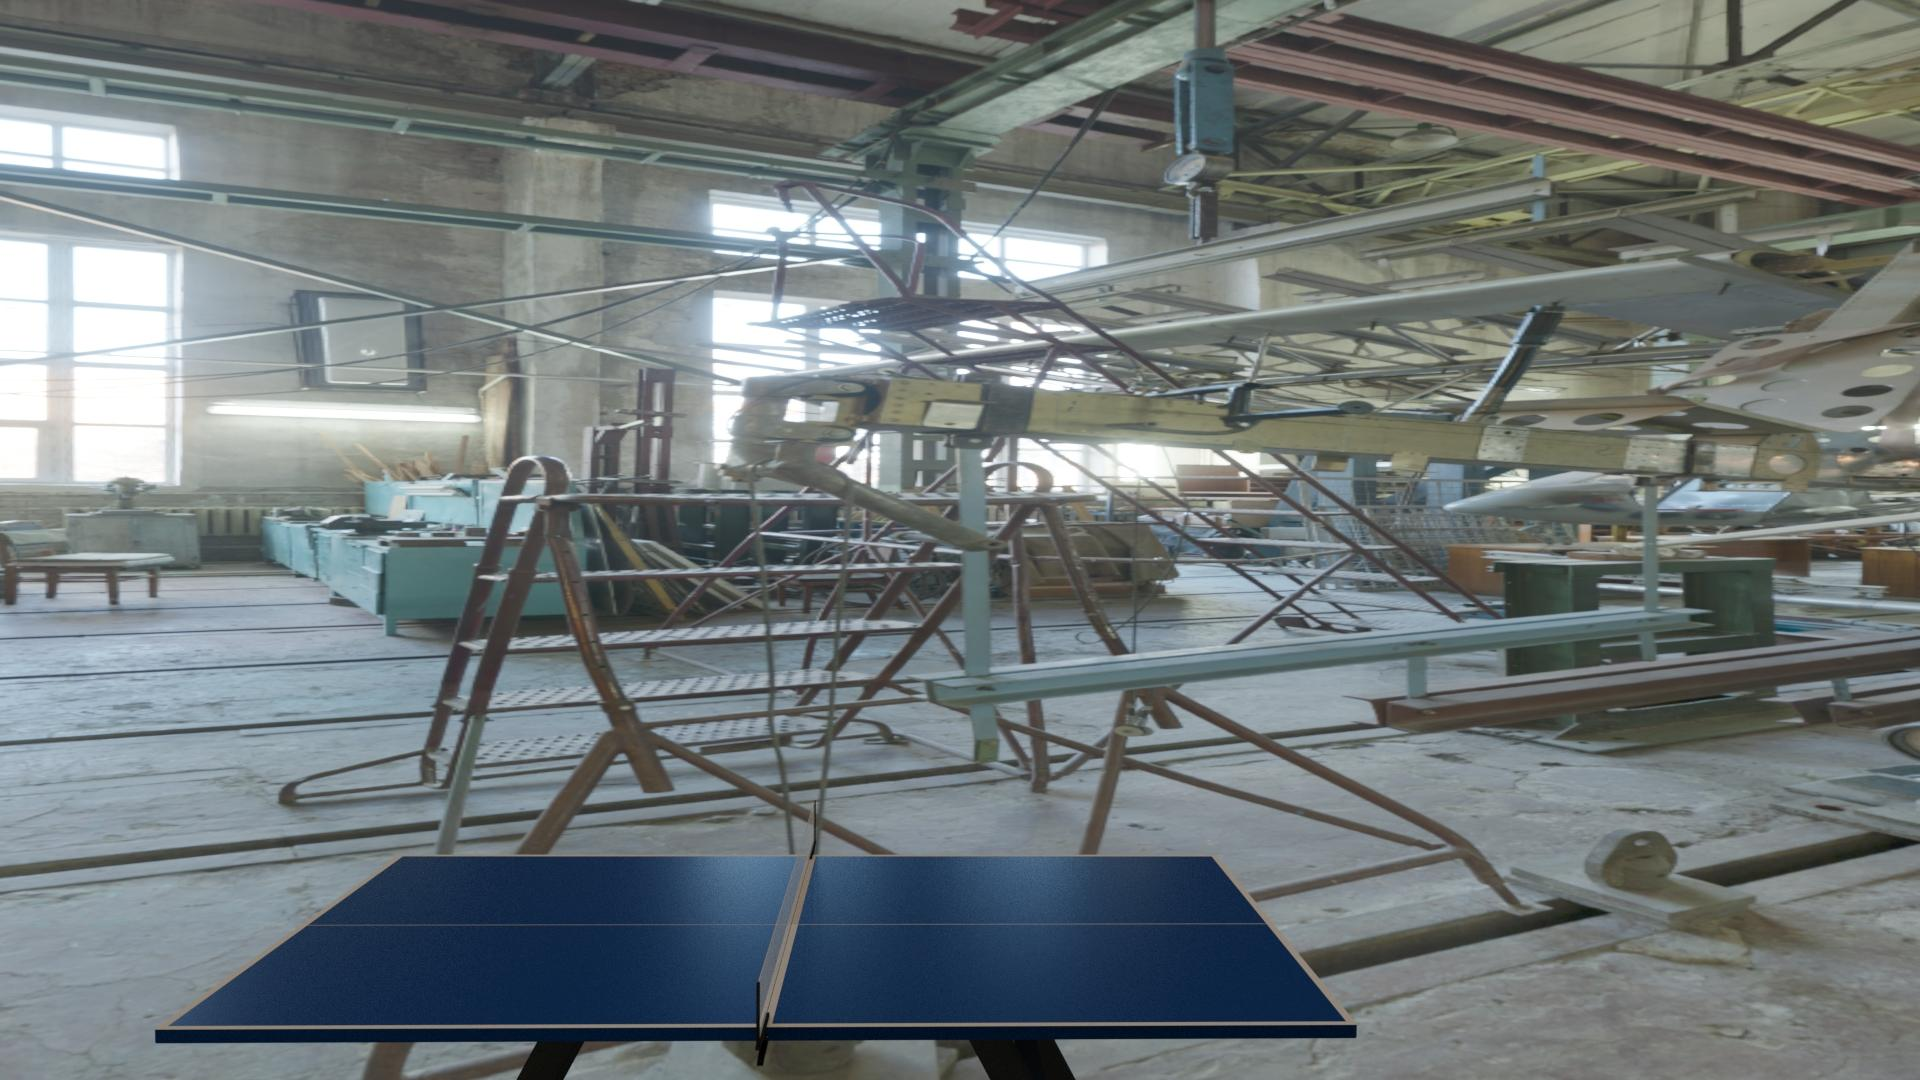table: (167, 856, 1346, 1026)
